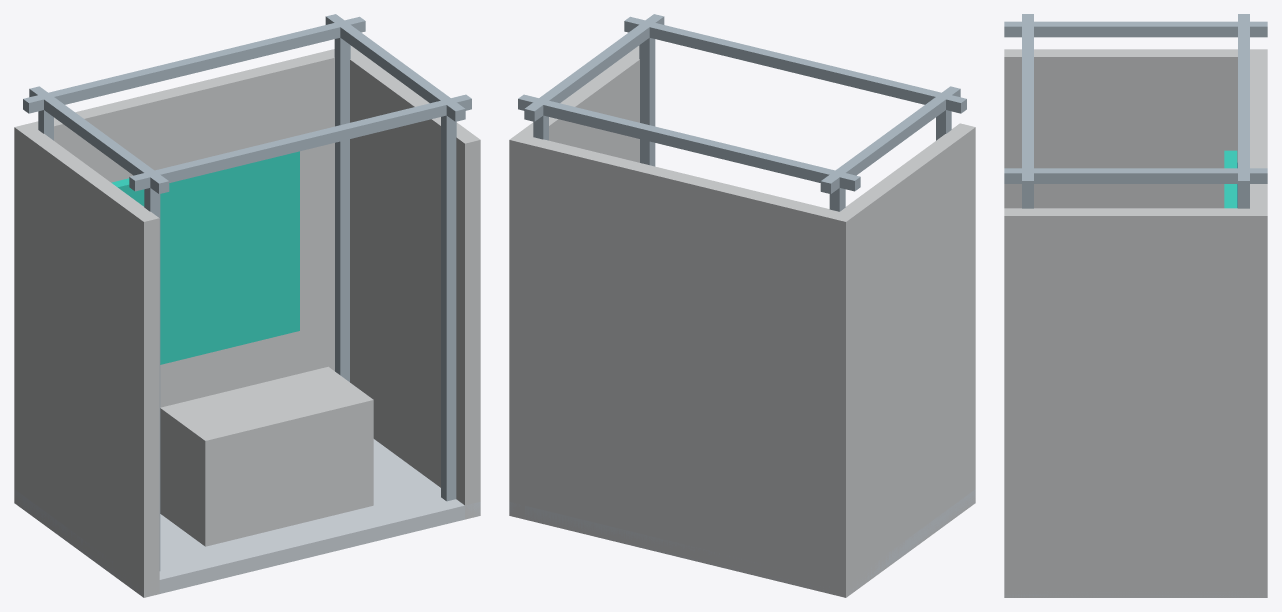
The picture shows the model from 3 angles, left to right: view 1: azimuth 30°, elevation 25°; view 2: azimuth 150°, elevation 25°; view 3: azimuth 270°, elevation 25°; orthographic projection.
Parts seen in each view (by area): view 1: Exhibition Booth Concept; view 2: Exhibition Booth Concept; view 3: Exhibition Booth Concept.
Boxes of the visible parts, box(x1,y1,x2,y2) form: Exhibition Booth Concept: box(14, 14, 480, 597); Exhibition Booth Concept: box(509, 14, 975, 597); Exhibition Booth Concept: box(1004, 14, 1267, 597).
Size of the model in its own units: 3 by 3.49 by 2.
